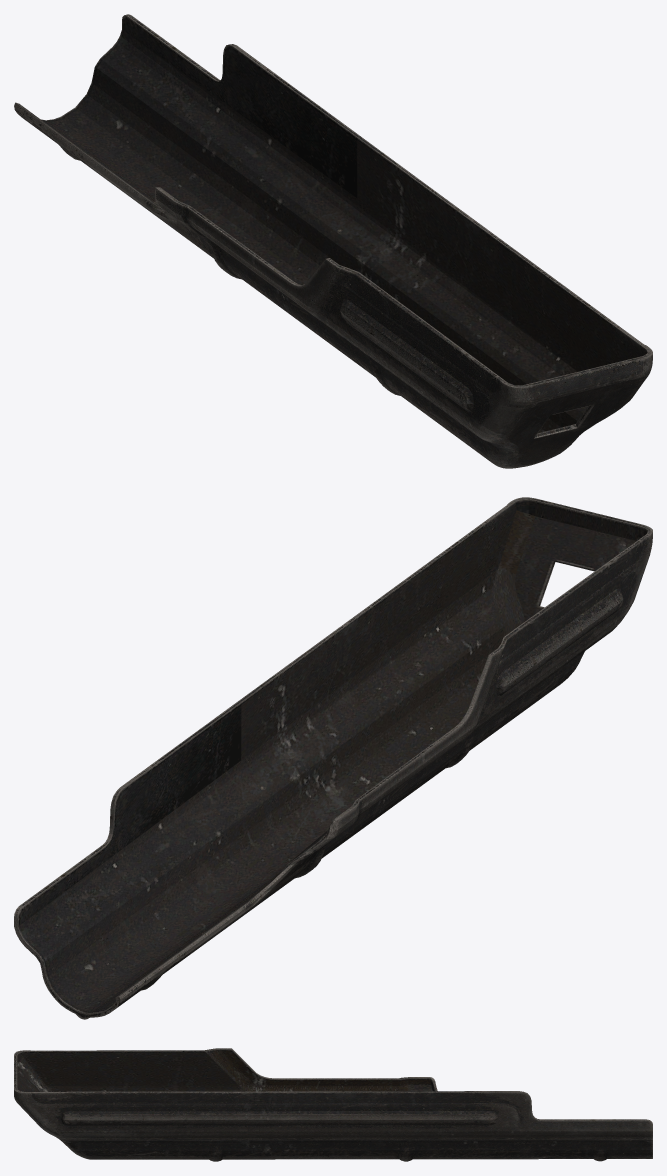
The picture shows the model from 3 angles, top to bottom: view 1: azimuth 30°, elevation 25°; view 2: azimuth 150°, elevation 25°; view 3: azimuth 270°, elevation 25°; orthographic projection. The views are drawn at different scales.
Parts seen in each view (by area): view 1: TW_59d6507c86f7741b846413a2_PZ_Import; view 2: TW_59d6507c86f7741b846413a2_PZ_Import; view 3: TW_59d6507c86f7741b846413a2_PZ_Import.
Part boxes in pixels (<box>): TW_59d6507c86f7741b846413a2_PZ_Import: <box>14,14,652,468</box>; TW_59d6507c86f7741b846413a2_PZ_Import: <box>14,497,652,1019</box>; TW_59d6507c86f7741b846413a2_PZ_Import: <box>14,1048,652,1161</box>.
Size of the model in its own units: 0.0238 by 0.1356 by 0.0206.
Materials: 1 (1 with a texture image).
